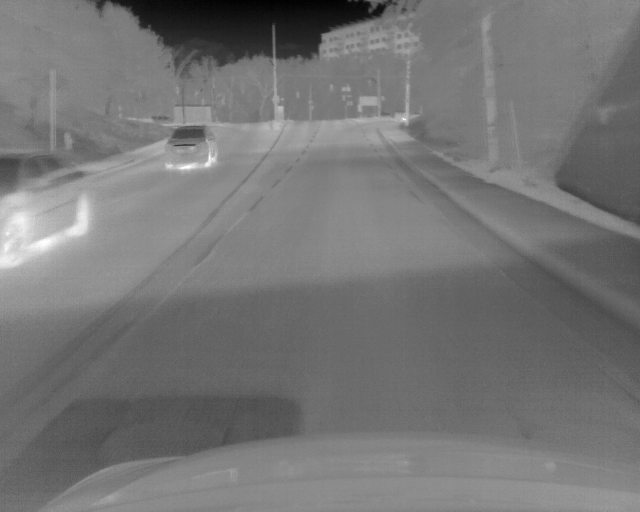car: (1, 148, 93, 264), (163, 125, 219, 171)
